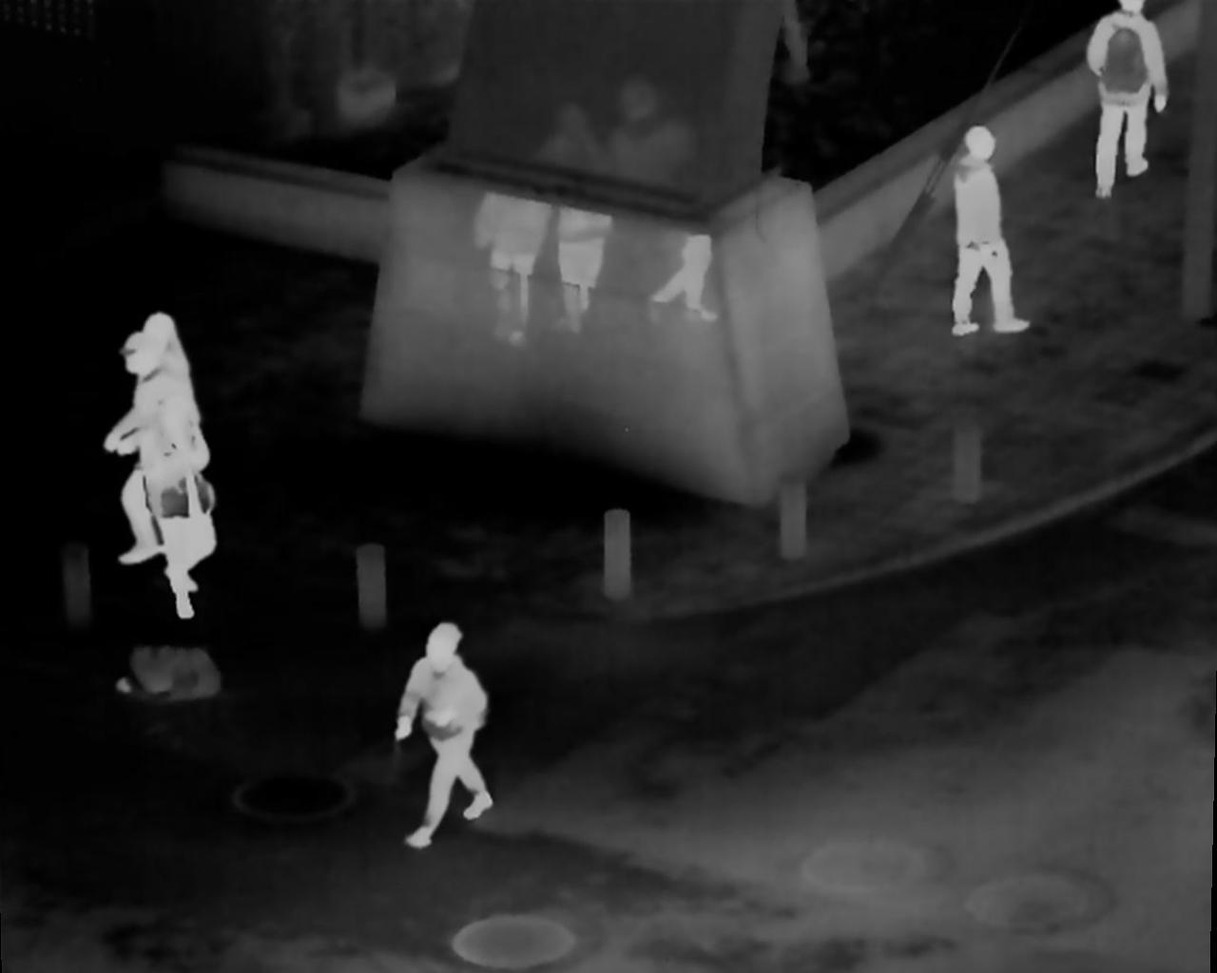person: (104, 314, 216, 620), (400, 620, 483, 847), (945, 127, 1021, 338)
